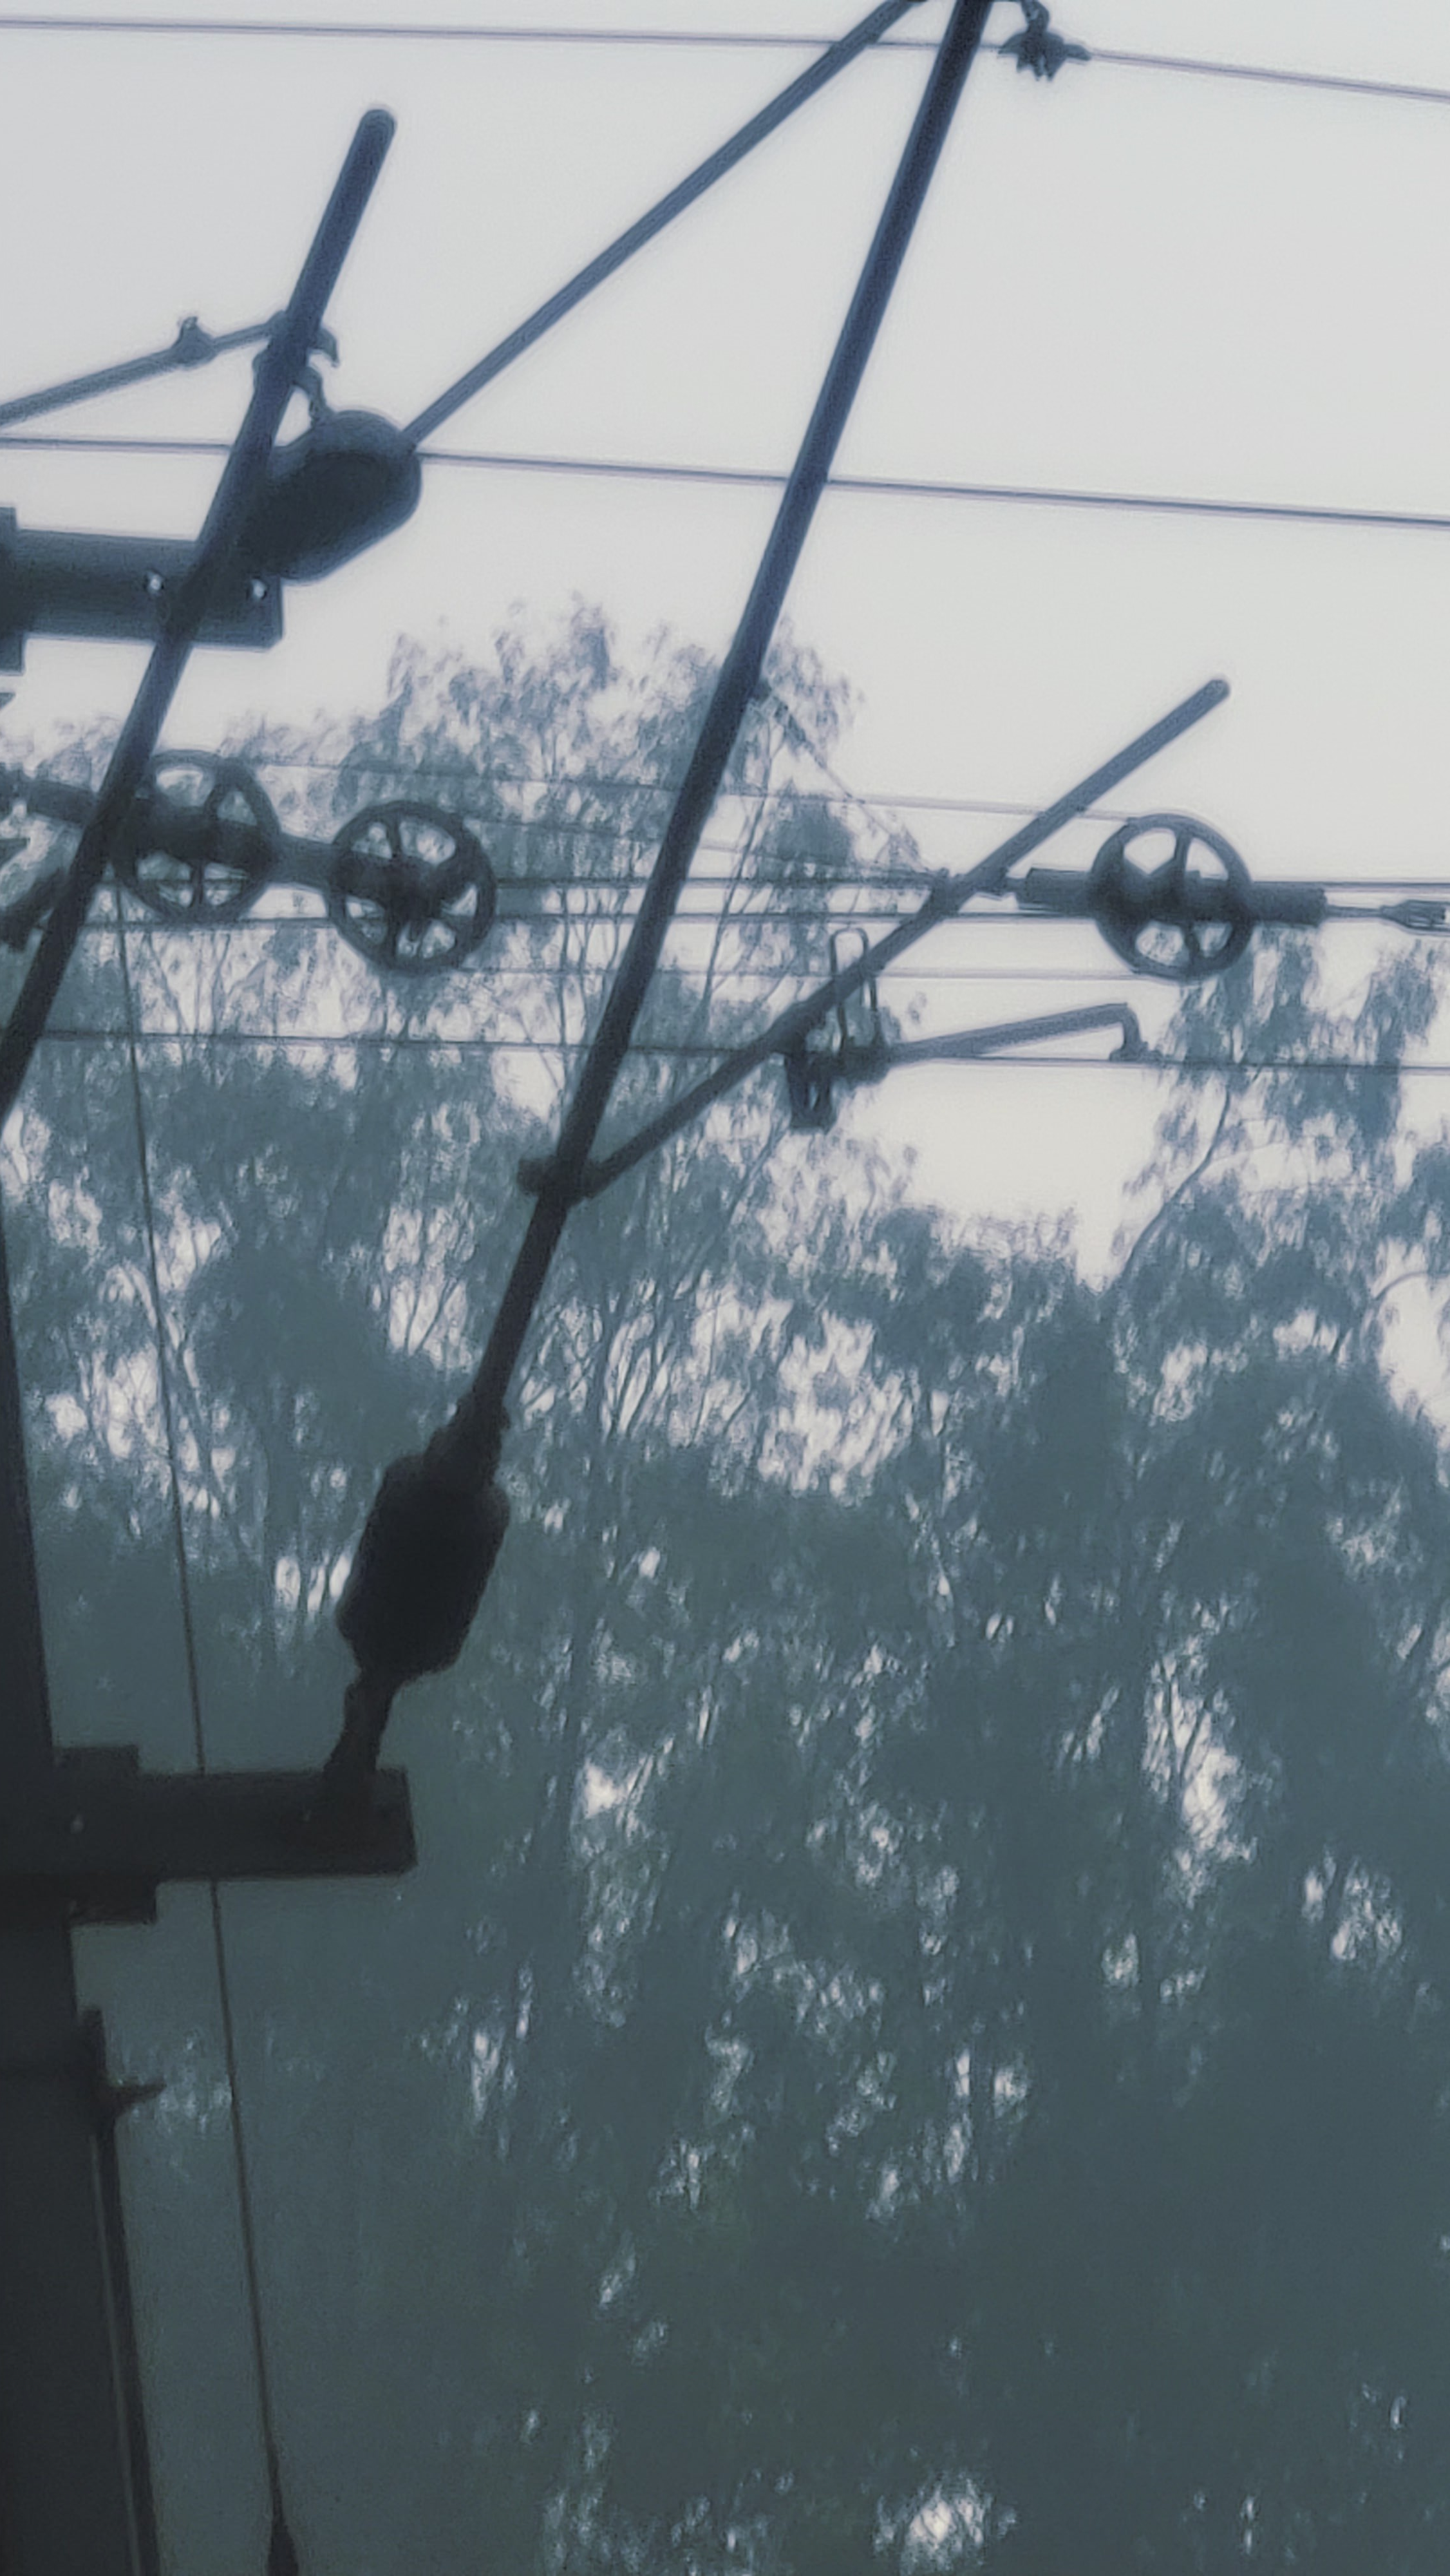pulley: (311, 764, 529, 989), (1086, 796, 1296, 1010), (118, 697, 279, 947)
